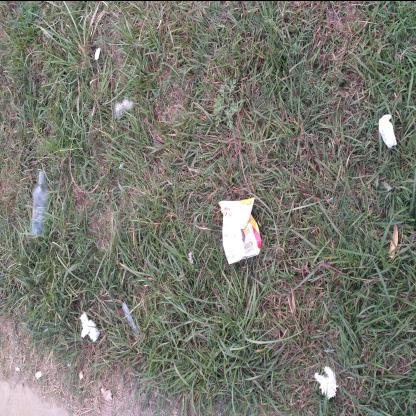cam: (32, 171, 51, 239)
diger: (315, 366, 339, 399), (379, 114, 399, 149)
plastik: (219, 196, 263, 266)
